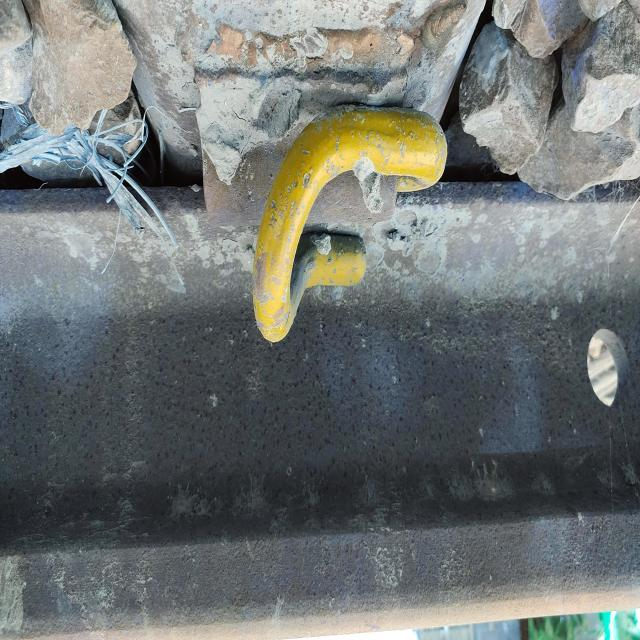Good Fasteners: (163, 1, 484, 342)
